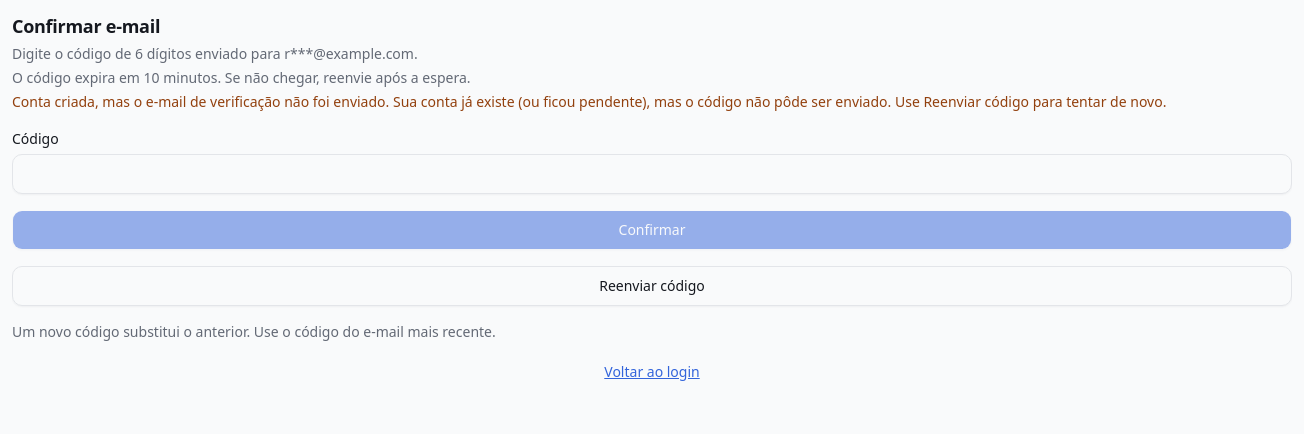
Test: TenantPortalVerifyEmailPage › shows a failed resend, including a rate limit, without clearing the form
Click the button "Reenviar código". click: (652, 286)
box: [12,266,1292,306]
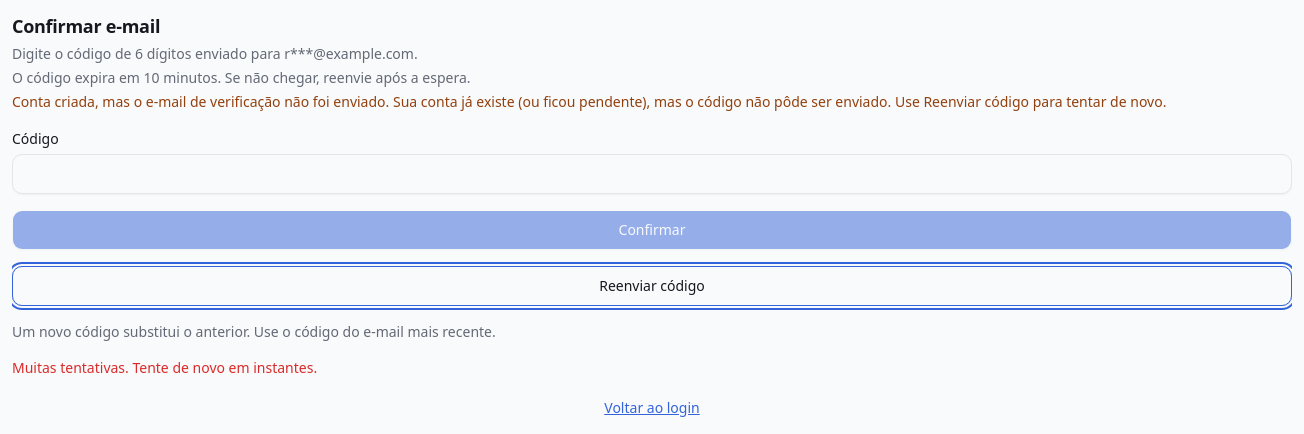
Expected: the field labelled "Código" is empty, [12,154,1292,194]
Expected: the message "Muitas tentativas. Tente de novo em instantes." is shown, [12,358,317,377]
